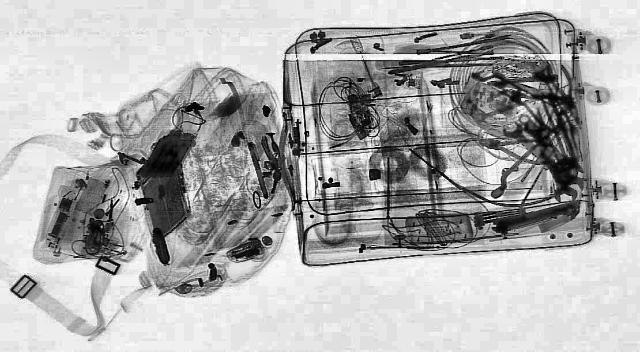Pliers: (540, 62, 594, 126), (472, 130, 554, 164)
Wrench: (498, 122, 590, 192), (510, 112, 588, 178), (521, 120, 581, 202)
